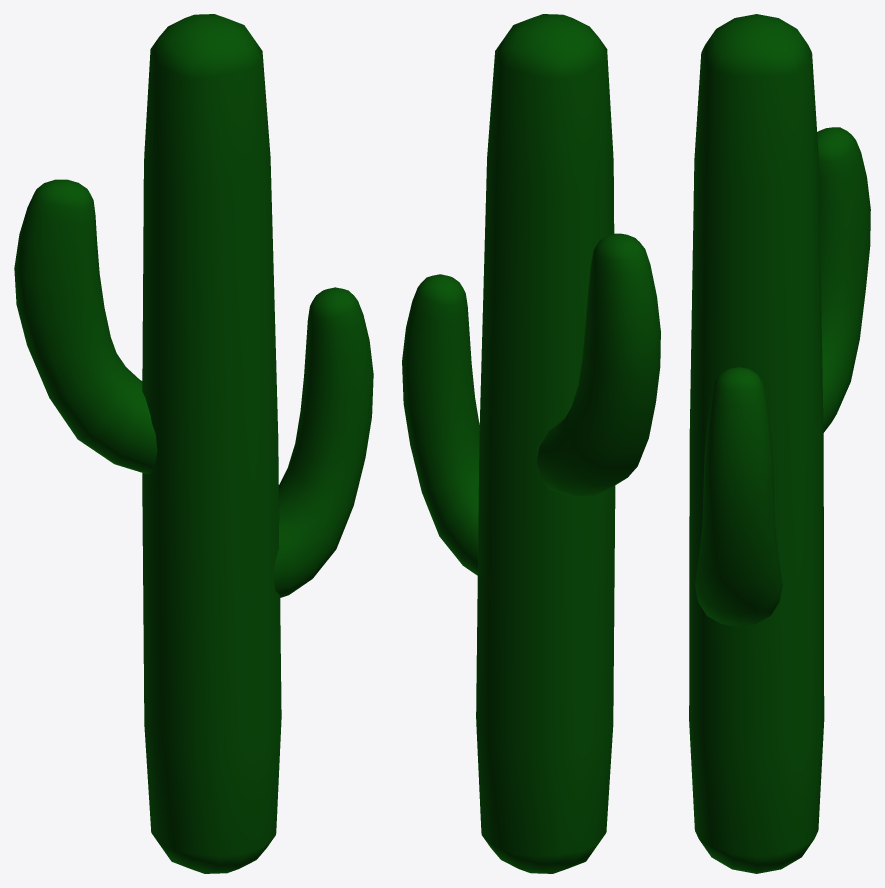
Rendered from Cactus 1.fbx.
The picture shows the model from 3 angles, left to right: view 1: azimuth 30°, elevation 25°; view 2: azimuth 150°, elevation 25°; view 3: azimuth 270°, elevation 25°; orthographic projection.
Parts seen in each view (by area): view 1: pCube3; view 2: pCube3; view 3: pCube3.
Part boxes in pixels (left/top/right/bottom): pCube3: left=14, top=14, right=373, bottom=873; pCube3: left=402, top=14, right=660, bottom=873; pCube3: left=689, top=14, right=870, bottom=873.
Bounding box in the file's own units: 1.78 × 4.81 × 0.9397.
